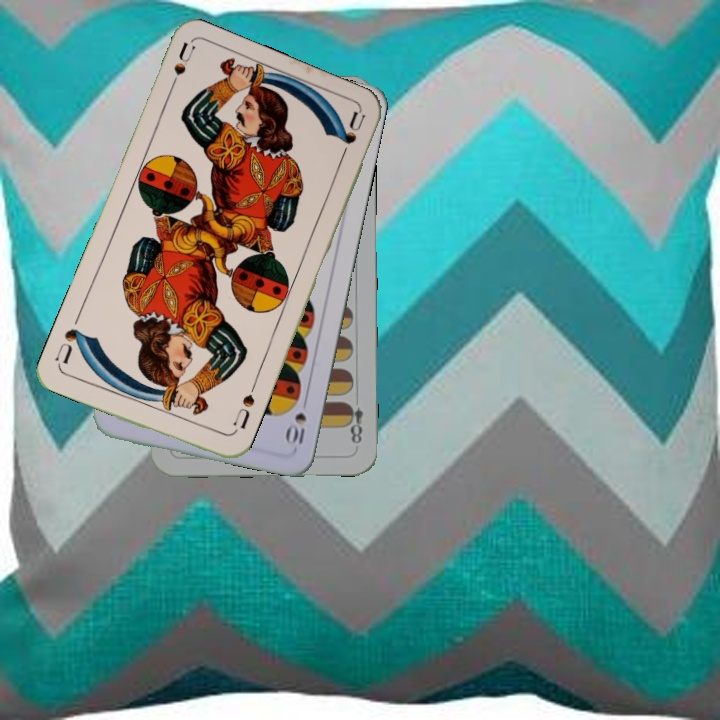E8: (343, 399, 366, 447)
S10: (283, 393, 311, 447)
SU: (163, 40, 196, 98), (229, 381, 258, 432)
